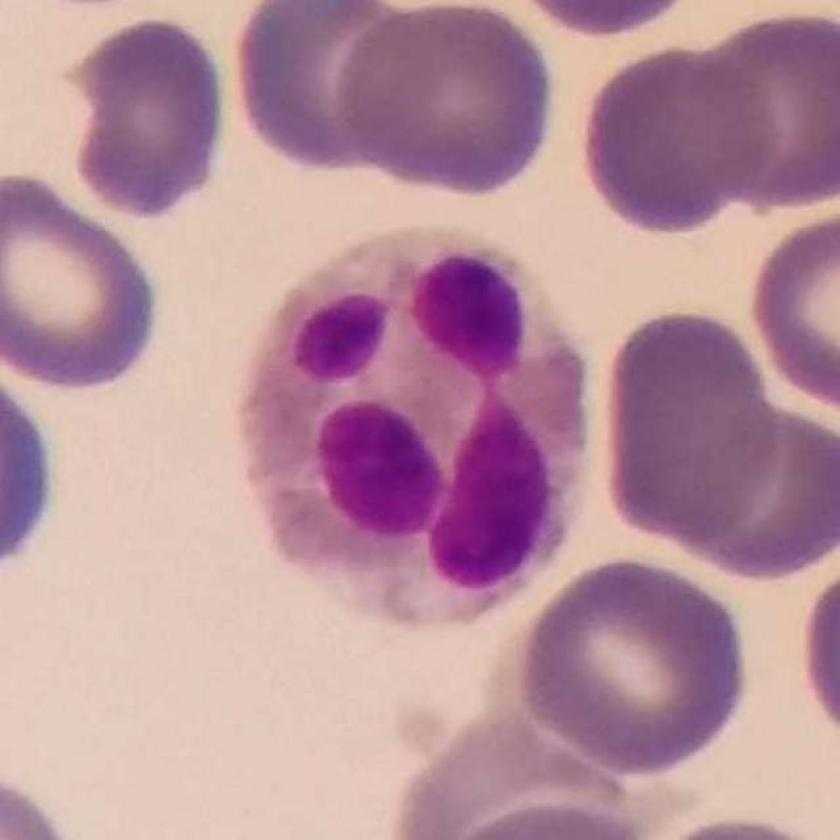eosinophil: (238, 223, 591, 636)
